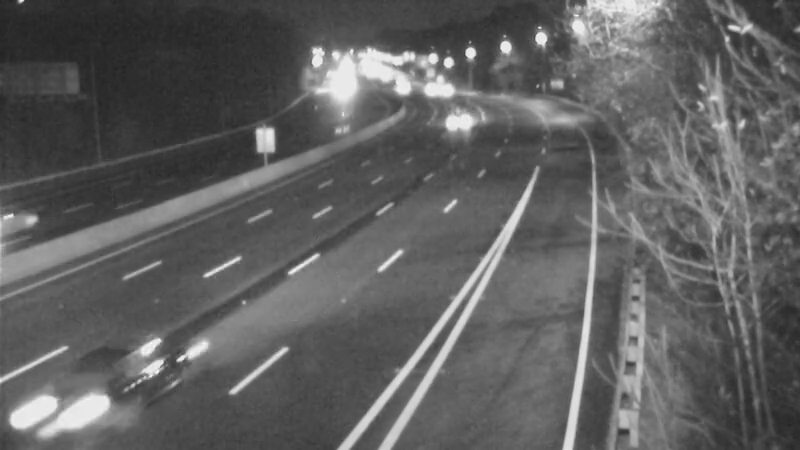vehicle: (15, 345, 125, 450), (1, 180, 66, 260), (423, 92, 473, 142)
